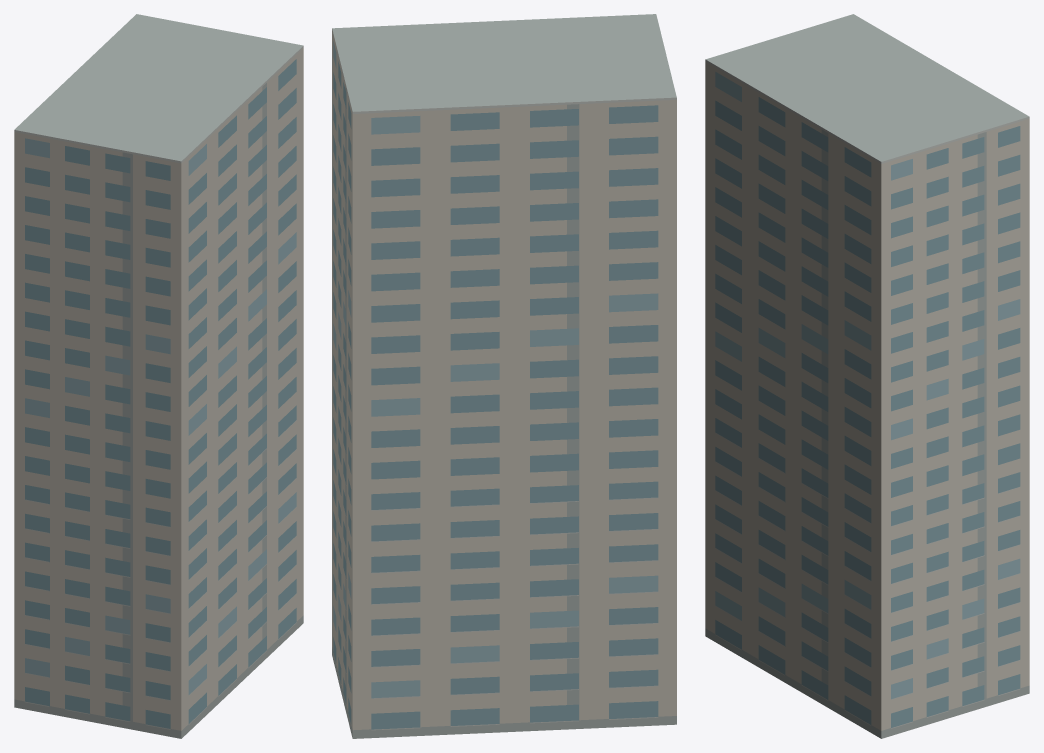
File: residential-eb1d3bfc-0bb7-46ff-8d60-73b12ed6a6d0.glb
3 views of the same model, side by side, from view 1: azimuth 30°, elevation 25°; view 2: azimuth 150°, elevation 25°; view 3: azimuth 270°, elevation 25° (orthographic). The views are drawn at different scales.
Parts seen in each view (by area): view 1: residential-eb1d3bfc-0bb7-46ff-8d60-73b12ed6a6d0.tmp; view 2: residential-eb1d3bfc-0bb7-46ff-8d60-73b12ed6a6d0.tmp; view 3: residential-eb1d3bfc-0bb7-46ff-8d60-73b12ed6a6d0.tmp.
Boxes of the visible parts, x1,y1,x2,y2 form: residential-eb1d3bfc-0bb7-46ff-8d60-73b12ed6a6d0.tmp: (14,14,303,738); residential-eb1d3bfc-0bb7-46ff-8d60-73b12ed6a6d0.tmp: (332,14,676,738); residential-eb1d3bfc-0bb7-46ff-8d60-73b12ed6a6d0.tmp: (705,14,1029,738).
Bounding box in the file's own units: 37.41 × 68 × 34.63.
